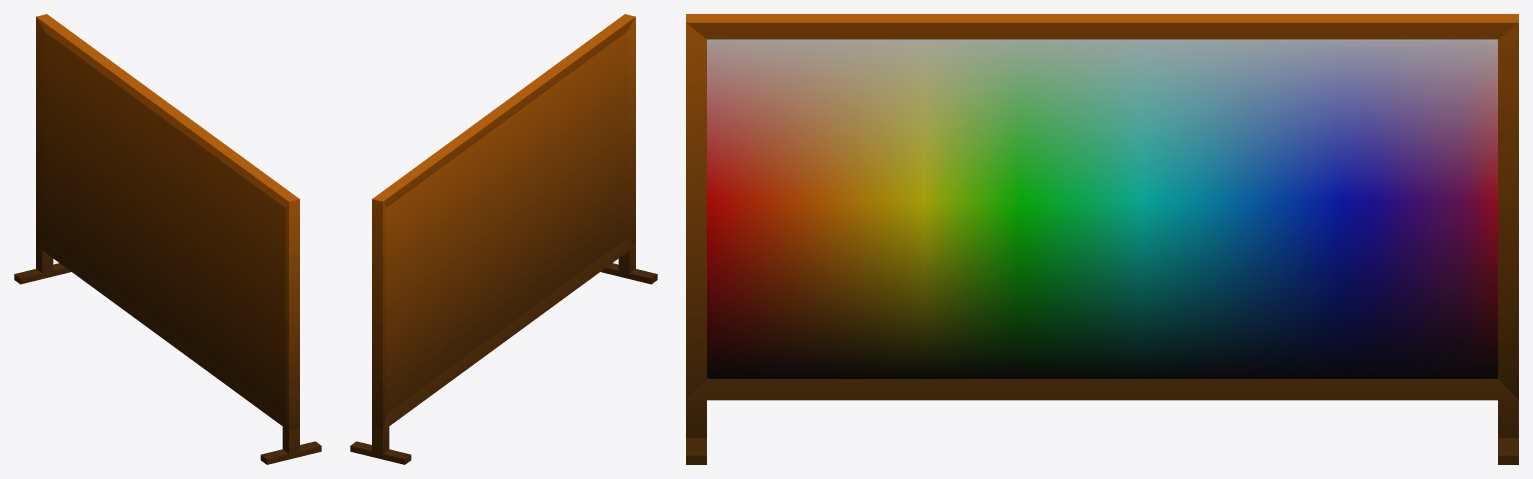
The model's file is exhibit-display-long-1.FBX.
The picture shows the model from 3 angles, left to right: view 1: azimuth 30°, elevation 25°; view 2: azimuth 150°, elevation 25°; view 3: azimuth 270°, elevation 25°; orthographic projection. The views are drawn at different scales.
Parts seen in each view (by area): view 1: displaywall, foot, foot2, leg, leg2; view 2: displaywall, foot2, foot, leg2, leg; view 3: displaywall.
Boxes of the visible parts, x1,y1,x2,y2 form: displaywall: (36,14,299,430); foot: (260,441,321,464); foot2: (14,263,71,284); leg: (282,427,299,453); leg2: (36,246,53,273); displaywall: (372,14,635,430); foot2: (350,441,411,464); foot: (600,263,657,284); leg2: (372,427,389,453); leg: (618,246,635,273); displaywall: (686,14,1518,400).
Size of the model in its own units: 0.5 by 4 by 2.25.
Materials: 1 (1 with a texture image).
